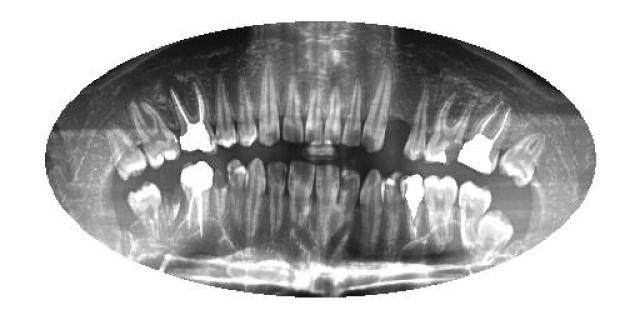Cavity: (424, 95, 481, 166), (214, 168, 228, 220)
Implant: (458, 102, 512, 176), (172, 76, 216, 154), (180, 159, 214, 239), (400, 172, 426, 244)
Restorations: (472, 210, 518, 260)
